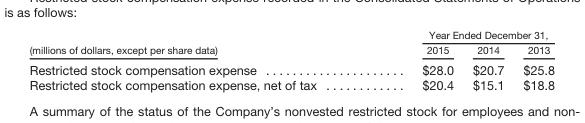table: (28, 28, 554, 92)
table column: (28, 28, 368, 92), (368, 28, 462, 92), (462, 28, 512, 92), (512, 28, 554, 92)
table column header: (28, 28, 554, 58)
table row: (28, 58, 554, 76), (28, 42, 554, 58), (28, 76, 554, 92), (28, 28, 554, 42)
table spanning cell: (28, 28, 368, 58), (368, 28, 554, 42)
